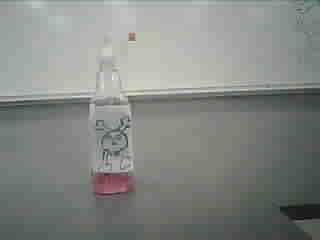hazard: (82, 29, 143, 198)
